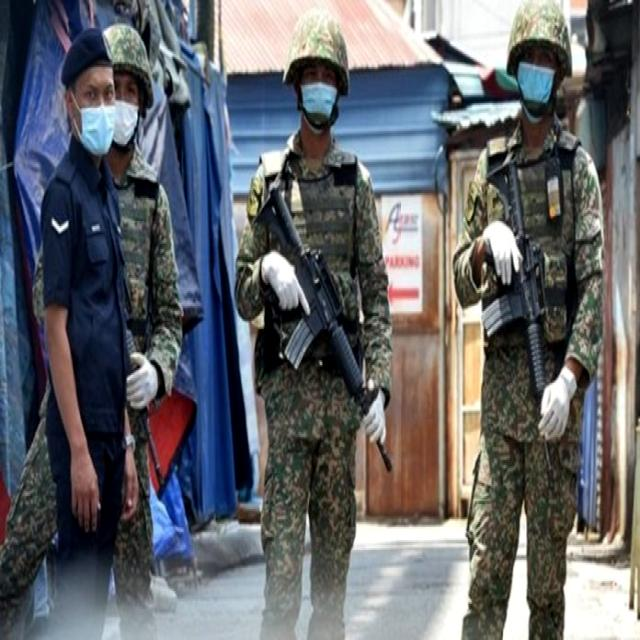m16: (444, 85, 582, 499)
